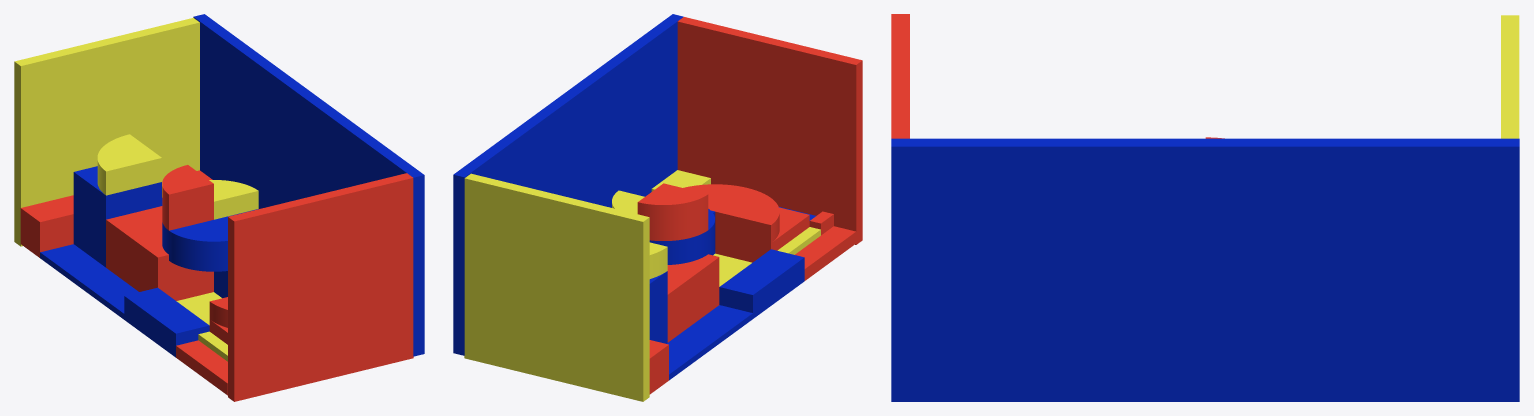
Rendered from holebound_field_test1-solid(2).fbx.
3 renders of one model, left to right at view 1: azimuth 30°, elevation 25°; view 2: azimuth 150°, elevation 25°; view 3: azimuth 270°, elevation 25°, orthographic. The views are drawn at different scales.
Visible parts, largest first — view 1: parede, parede_1, parede_3, 15, 20, Cap_2, Cap_2_15, 16, 17, 24, Cap_2_19, 10 (+14 smaller); view 2: parede_1, parede, parede_3, 15, Cap_2, 17, Cap_2_15, Cap_2_21, 10, Cap_2_19, 6, 16 (+16 smaller); view 3: parede_3, Cap_2, Cap_2_3, Cap_2_2.
Boxes of the visible parts, x1,y1,x2,y2 form: parede: [228, 178, 413, 401]; parede_1: [14, 22, 199, 246]; parede_3: [193, 17, 424, 356]; 15: [106, 220, 213, 300]; 20: [73, 172, 161, 267]; Cap_2: [194, 14, 423, 177]; Cap_2_15: [40, 244, 138, 313]; 16: [162, 222, 227, 271]; 17: [162, 183, 213, 230]; 24: [20, 208, 73, 257]; Cap_2_19: [124, 287, 209, 333]; 10: [124, 296, 209, 357]; parede_1: [464, 178, 649, 401]; parede: [677, 21, 862, 244]; parede_3: [453, 21, 677, 355]; 15: [667, 257, 719, 342]; Cap_2: [454, 14, 683, 177]; 17: [637, 194, 708, 240]; Cap_2_15: [666, 305, 752, 374]; Cap_2_21: [683, 184, 779, 224]; 10: [719, 257, 804, 318]; Cap_2_19: [720, 249, 803, 294]; 6: [715, 215, 809, 262]; 16: [649, 219, 715, 264]; parede_3: [891, 146, 1519, 401]; Cap_2: [891, 138, 1519, 146]; Cap_2_3: [891, 14, 909, 138]; Cap_2_2: [1501, 15, 1519, 138].
Size of the model in its own units: 662 by 603 by 1326.
